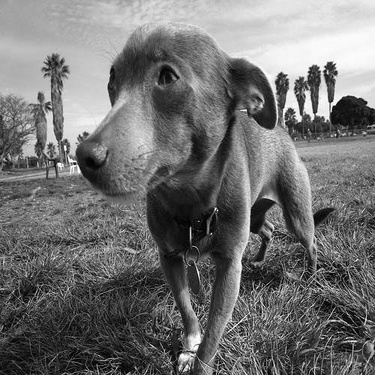dog: (71, 17, 339, 370)
